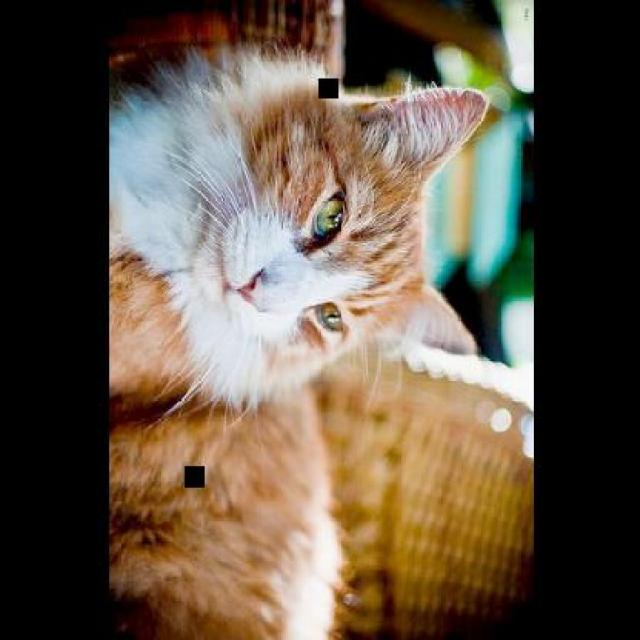unauthorized: (106, 39, 491, 638)
